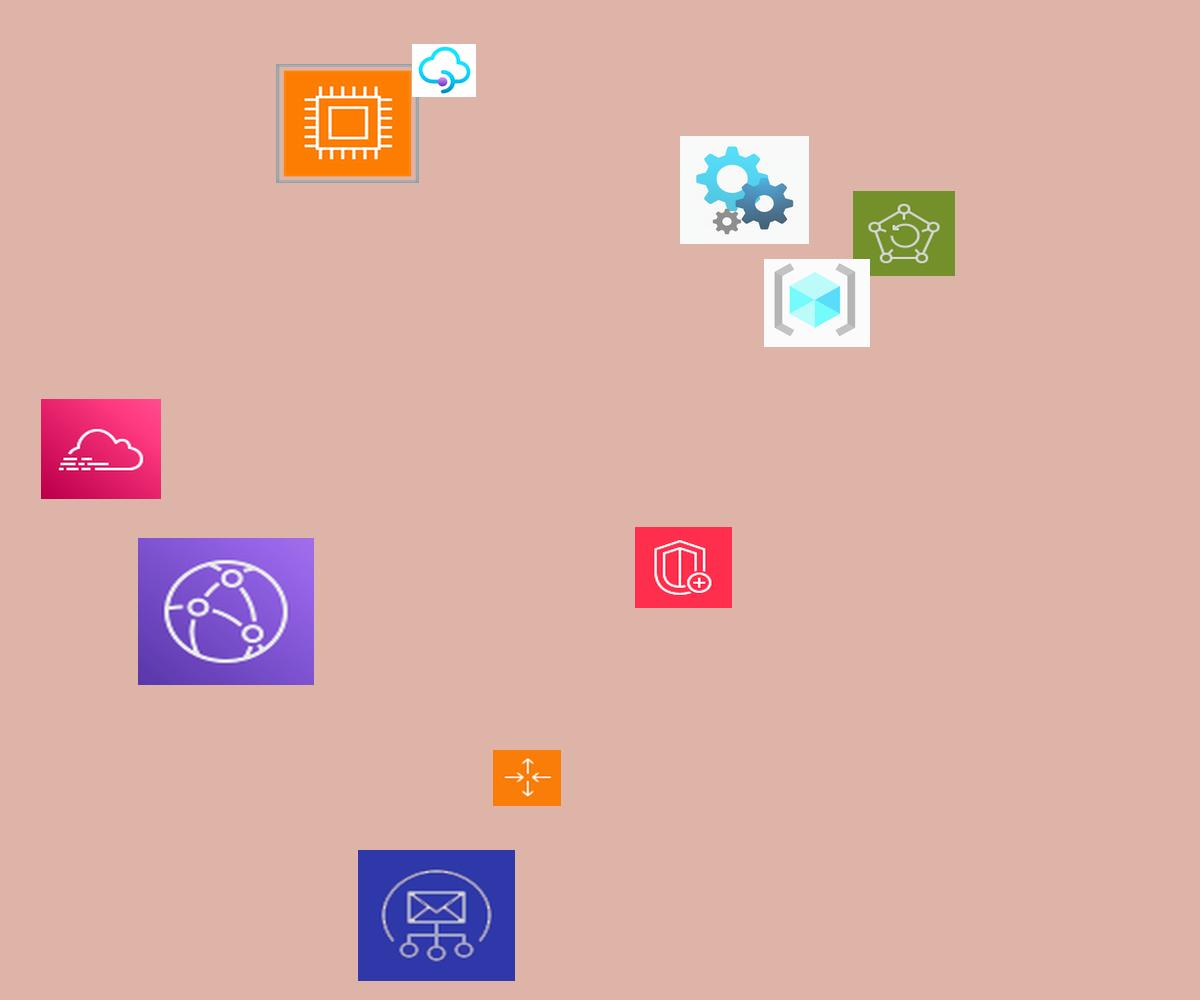AWS-Backup: (853, 191, 955, 276)
AWS-Category_Compute: (276, 64, 419, 183)
AWS-CloudFront: (138, 538, 314, 685)
AWS-CloudTrail: (41, 399, 161, 499)
AWS-Scaling-group: (493, 750, 561, 806)
AWS-Shield: (635, 527, 732, 608)
AWS-Simple-Email-Service: (358, 850, 515, 981)
Azure_api: (680, 136, 809, 244)
Azure_api_gateway: (412, 44, 476, 97)
Azure_resource_group: (764, 259, 870, 347)
